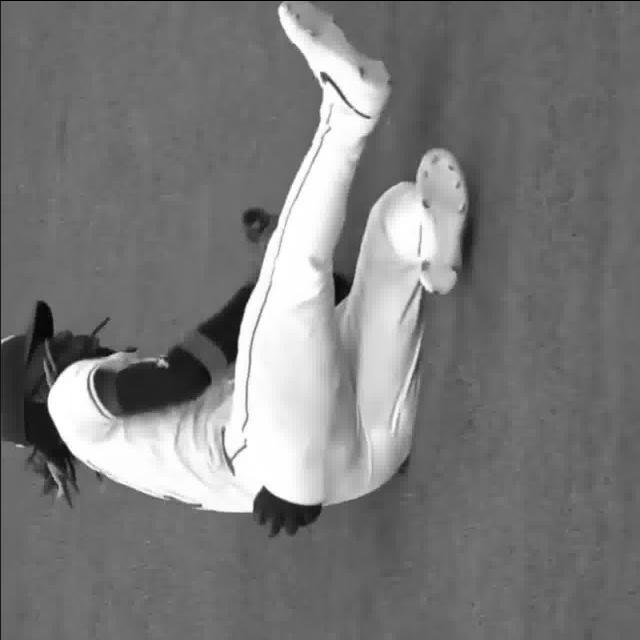shoe: (281, 0, 399, 111), (409, 143, 473, 297)
